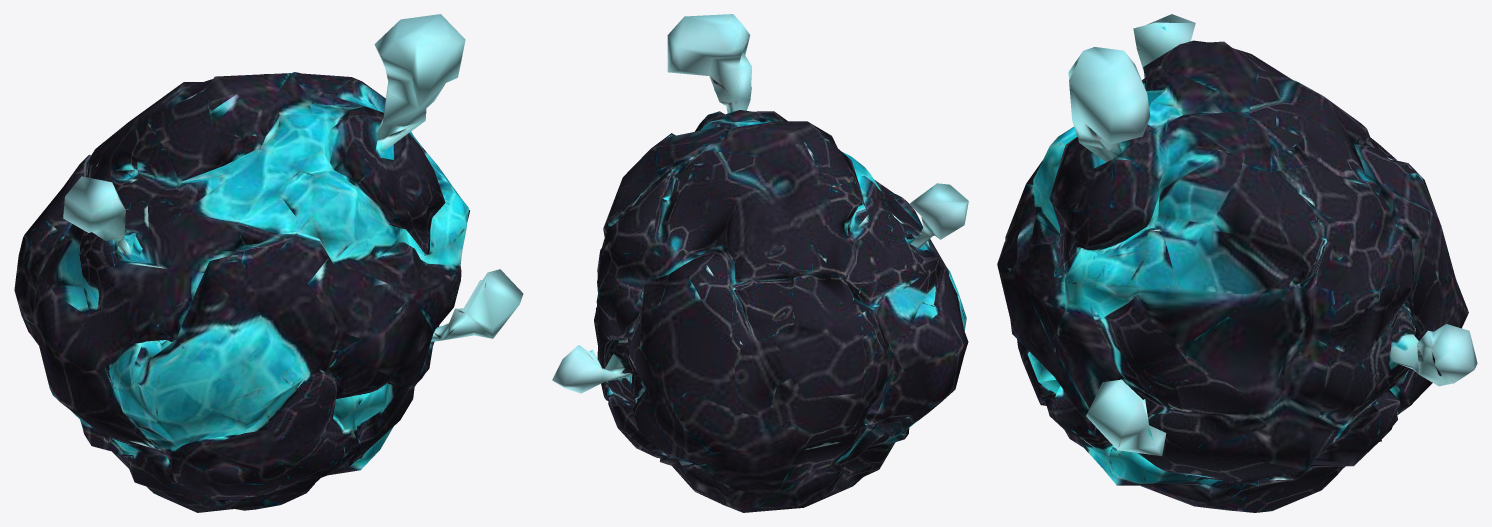
Rendered from comet.glb.
3 views of the same model, side by side, from view 1: azimuth 30°, elevation 25°; view 2: azimuth 150°, elevation 25°; view 3: azimuth 270°, elevation 25° (orthographic). The views are drawn at different scales.
Bounding box in the file's own units: 1.74 × 1.86 × 1.58.
Materials: 1 (1 with a texture image).
